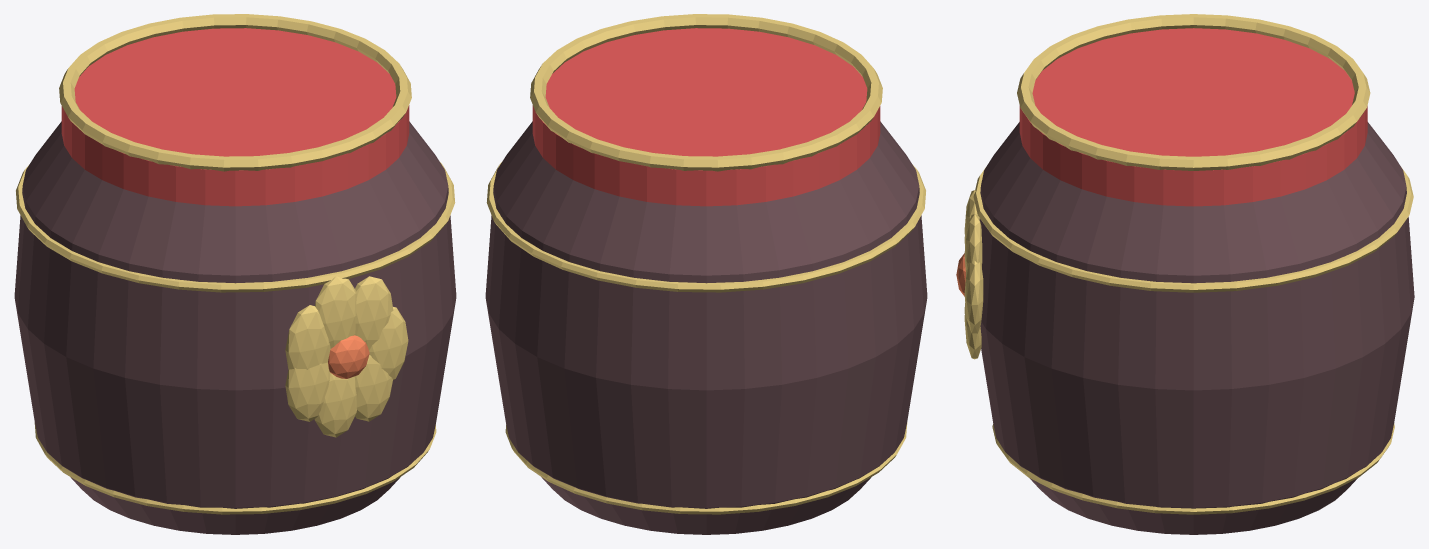
File: tea_natsume.glb
3 renders of one model, left to right at view 1: azimuth 30°, elevation 25°; view 2: azimuth 150°, elevation 25°; view 3: azimuth 270°, elevation 25°, orthographic.
Parts seen in each view (by area): view 1: Natsume black lacquer canister, Precisely fitting removable red lid, Gold lid piping, Gold linear accent.001, Gold linear accent, Gold makie chrysanthemum_petal03, Gold makie chrysanthemum_petal02, Gold makie chrysanthemum_petal01, Gold makie chrysanthemum_petal04, Gold makie chrysanthemum_petal05, Gold makie chrysanthemum_petal06, Gold makie chrysanthemum_petal00 (+1 smaller); view 2: Natsume black lacquer canister, Precisely fitting removable red lid, Gold lid piping, Gold linear accent.001, Gold linear accent; view 3: Natsume black lacquer canister, Precisely fitting removable red lid, Gold lid piping, Gold linear accent.001, Gold linear accent, Gold makie chrysanthemum_petal00, Gold makie chrysanthemum_petal01.
Part boxes in pixels (left/top/right/bottom): Natsume black lacquer canister: left=14, top=121, right=456, bottom=534; Precisely fitting removable red lid: left=61, top=28, right=409, bottom=206; Gold lid piping: left=59, top=14, right=411, bottom=171; Gold linear accent.001: left=16, top=162, right=455, bottom=292; Gold linear accent: left=34, top=422, right=436, bottom=514; Gold makie chrysanthemum_petal03: left=285, top=305, right=330, bottom=369; Gold makie chrysanthemum_petal02: left=315, top=276, right=356, bottom=348; Gold makie chrysanthemum_petal01: left=355, top=276, right=393, bottom=350; Gold makie chrysanthemum_petal04: left=285, top=362, right=330, bottom=421; Gold makie chrysanthemum_petal05: left=314, top=373, right=356, bottom=437; Gold makie chrysanthemum_petal06: left=354, top=355, right=392, bottom=421; Gold makie chrysanthemum_petal00: left=369, top=307, right=408, bottom=380; Natsume black lacquer canister: left=485, top=121, right=927, bottom=534; Precisely fitting removable red lid: left=532, top=28, right=880, bottom=206; Gold lid piping: left=530, top=14, right=882, bottom=171; Gold linear accent.001: left=486, top=162, right=925, bottom=292; Gold linear accent: left=505, top=422, right=907, bottom=514; Natsume black lacquer canister: left=979, top=122, right=1414, bottom=534; Precisely fitting removable red lid: left=1019, top=28, right=1367, bottom=206; Gold lid piping: left=1017, top=14, right=1370, bottom=170; Gold linear accent.001: left=973, top=167, right=1413, bottom=292; Gold linear accent: left=992, top=423, right=1394, bottom=514; Gold makie chrysanthemum_petal00: left=964, top=261, right=983, bottom=333; Gold makie chrysanthemum_petal01: left=964, top=214, right=982, bottom=273.
Bounding box in the file's own units: 1.88 × 1.79 × 1.95.
